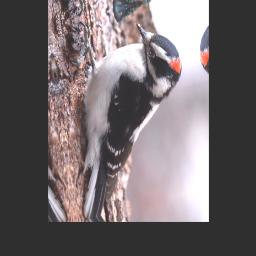Woodpecker: (57, 9, 202, 218)
